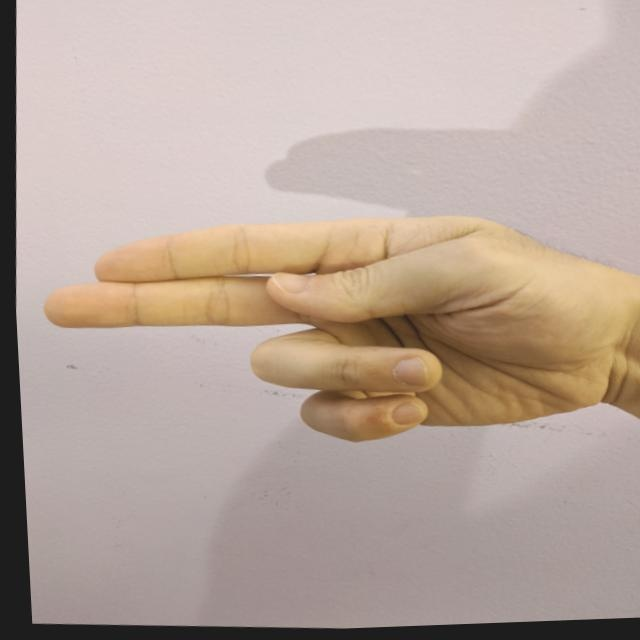H: (17, 181, 634, 475)
